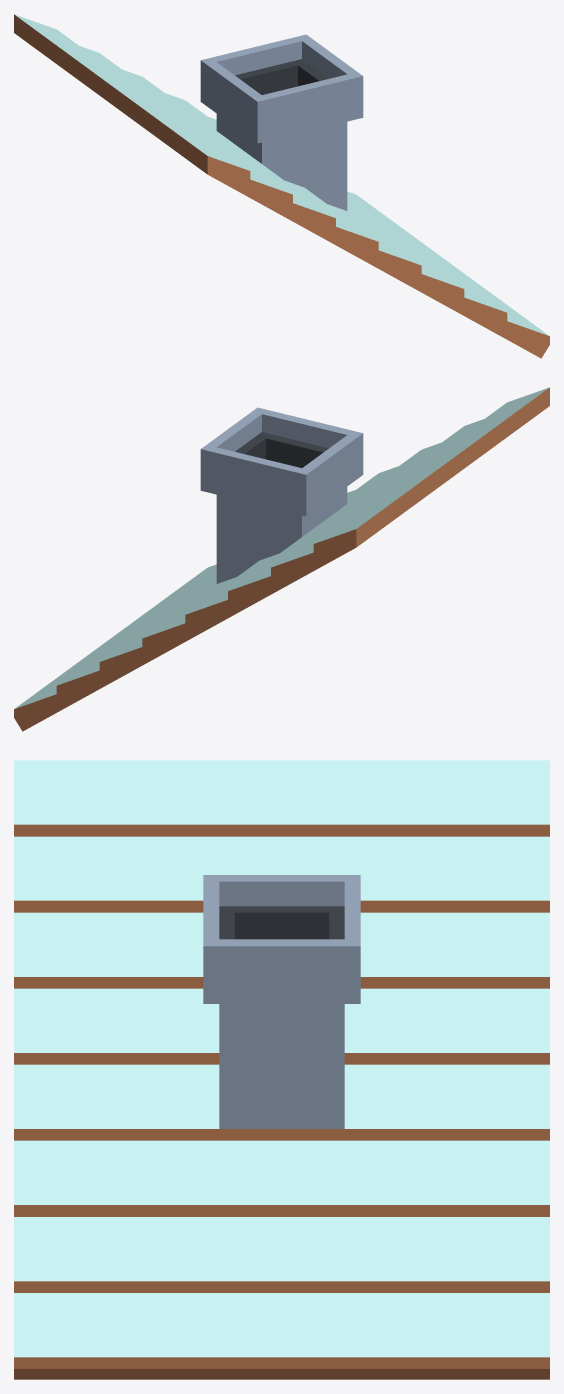
File: cabinRoofChimney.dae
The picture shows the model from 3 angles, top to bottom: view 1: azimuth 30°, elevation 25°; view 2: azimuth 150°, elevation 25°; view 3: azimuth 270°, elevation 25°; orthographic projection. The views are drawn at different scales.
Parts seen in each view (by area): view 1: cabinRoofChimney; view 2: cabinRoofChimney; view 3: cabinRoofChimney.
Part boxes in pixels (<box>): cabinRoofChimney: <box>14,14,549,358</box>; cabinRoofChimney: <box>14,387,549,731</box>; cabinRoofChimney: <box>14,760,549,1379</box>.
Bounding box in the file's own units: 1.21 × 0.9559 × 1.18.
